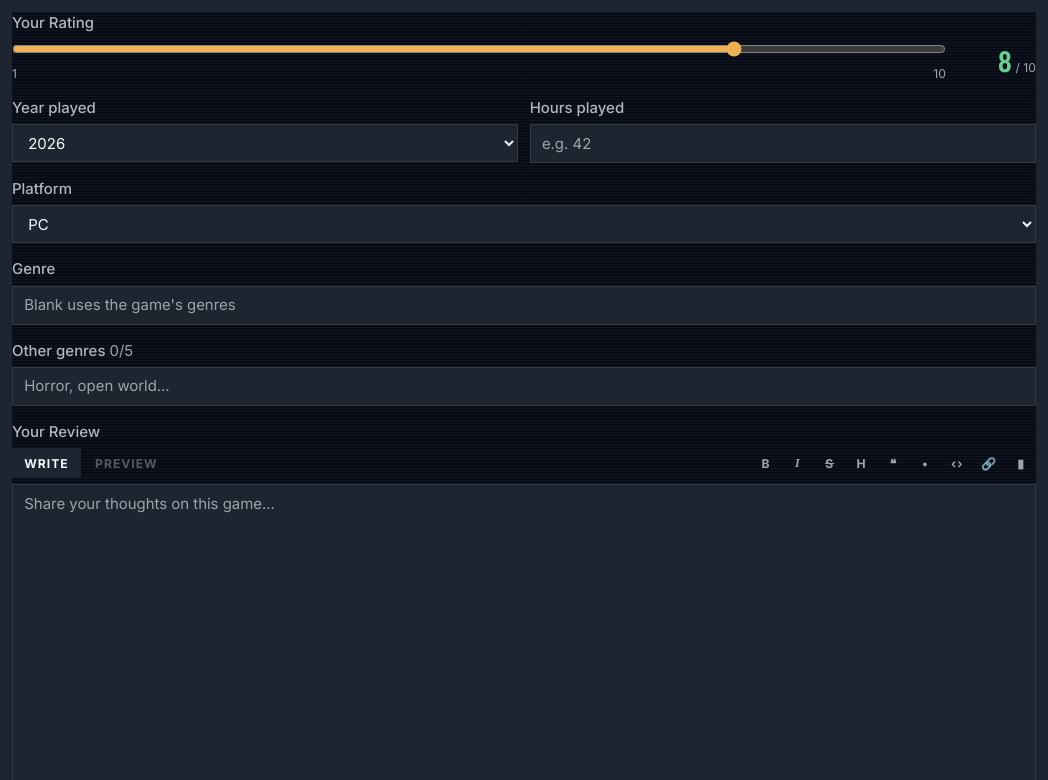
adding secondary genres to a review › stops at five
Expected: the field labelled "Genre" is shown, [12, 286, 1036, 325]
Type "a,b,c,d,e,f," into the field labelled "Other genres 0/5" at (524,386), box [12, 367, 1036, 406]
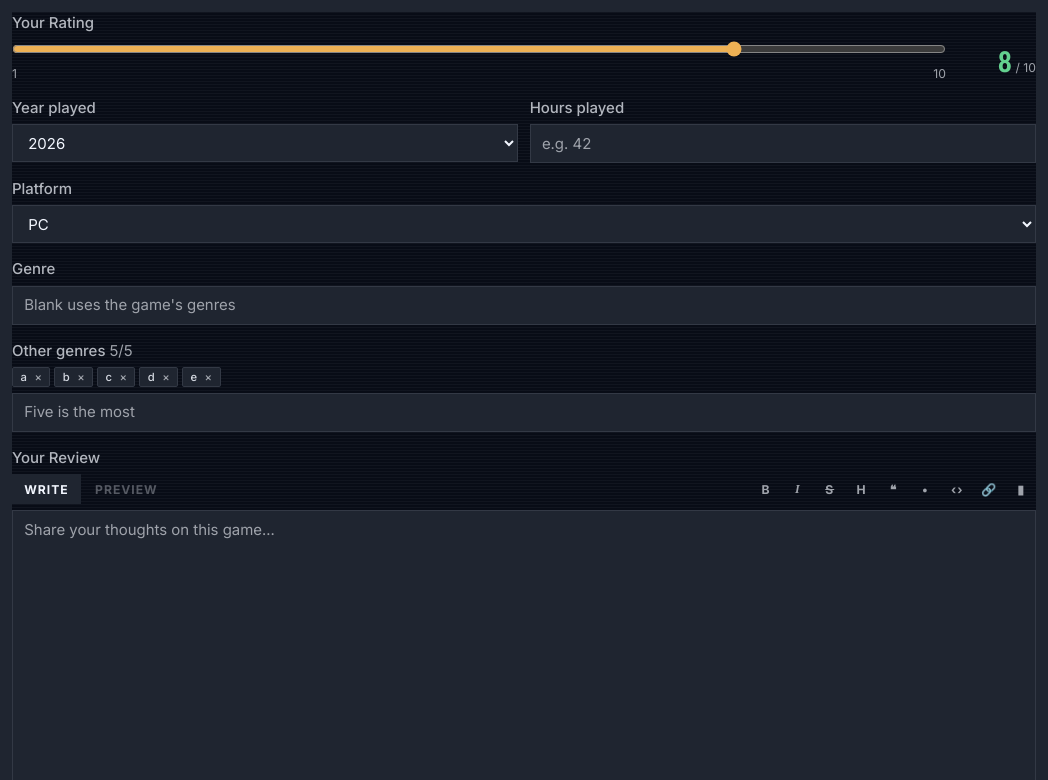
Expected: the field labelled "Other genres 5/5" is disabled, [12, 393, 1036, 432]
